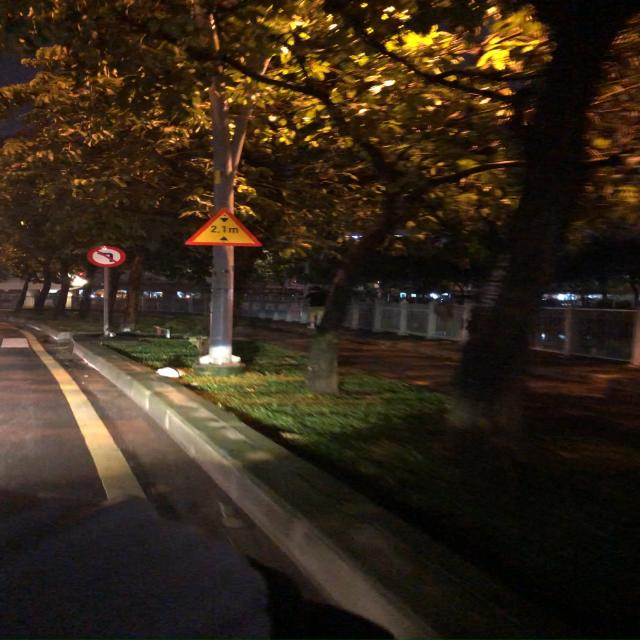Bien bao cam re trai: (80, 245, 134, 270)
Bien bao chieu cao tinh khong thuc te: (177, 208, 265, 250)
